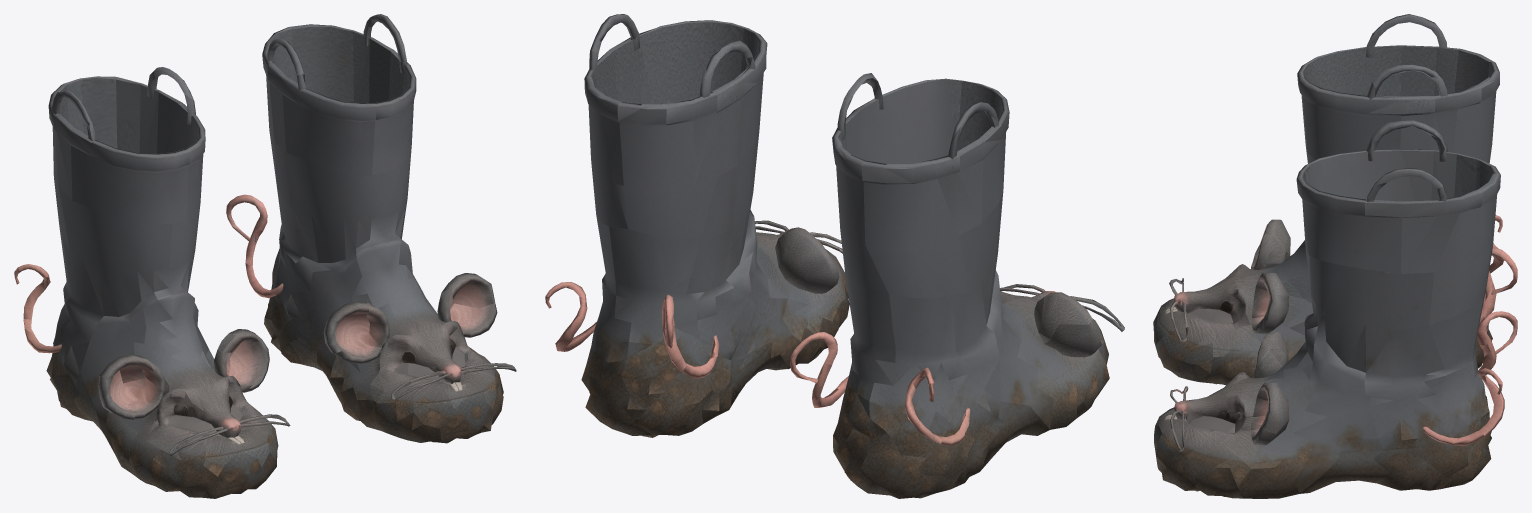
Rendered from Muddy-Mouse-Boots-01a0137d.glb.
3 views of the same model, side by side, from view 1: azimuth 30°, elevation 25°; view 2: azimuth 150°, elevation 25°; view 3: azimuth 270°, elevation 25° (orthographic). The views are drawn at different scales.
Parts seen in each view (by area): view 1: mesh_node; view 2: mesh_node; view 3: mesh_node.
Part boxes in pixels (<box>): mesh_node: <box>14,14,516,498</box>; mesh_node: <box>545,14,1124,498</box>; mesh_node: <box>1153,14,1517,498</box>.
Size of the model in its own units: 1 by 0.8066 by 0.8086.
1 material, 1 textured.
